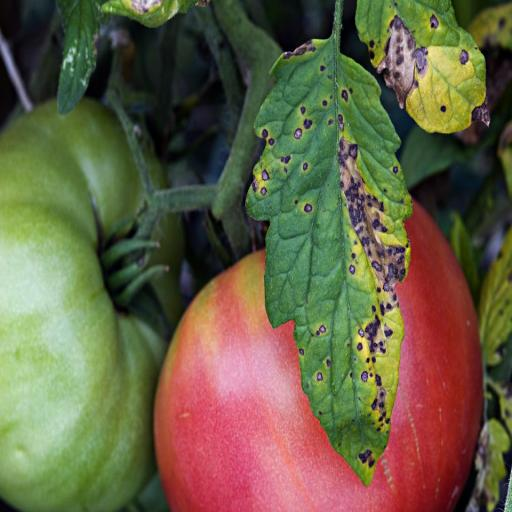Septoria: (242, 32, 418, 480), (356, 0, 494, 139)
